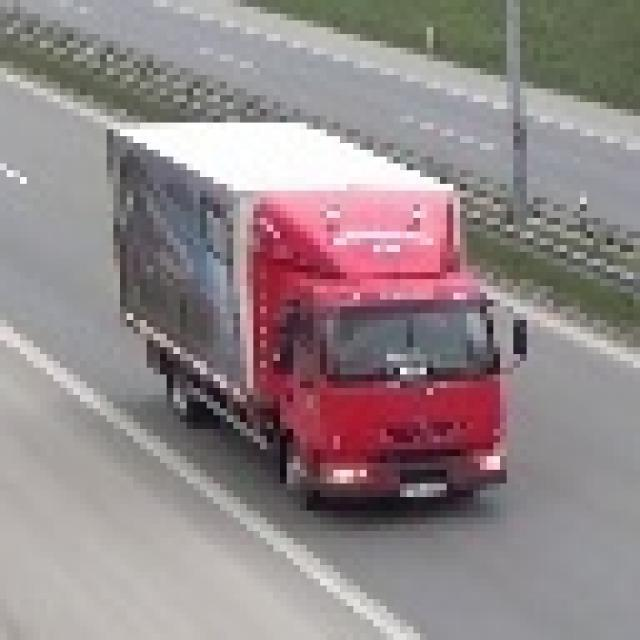truck: (114, 109, 534, 504)
